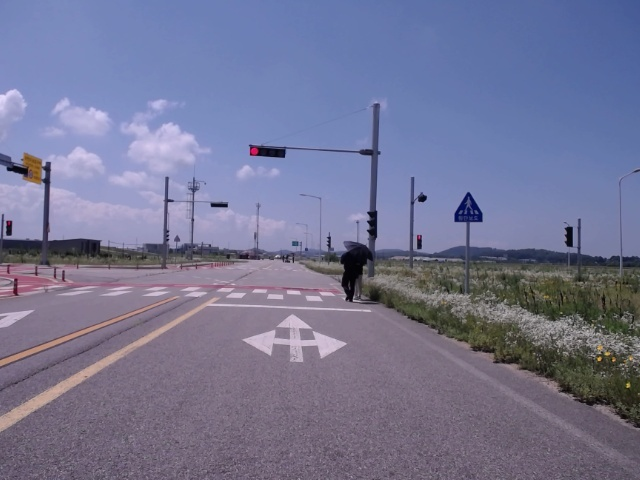red_4: (250, 147, 285, 158)
